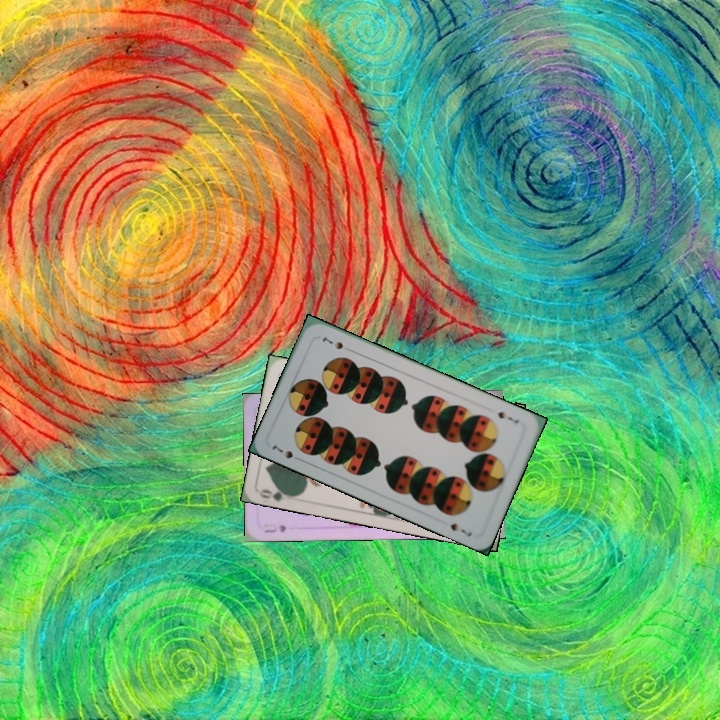GO: (257, 483, 298, 504)
S7: (268, 441, 305, 464), (494, 407, 522, 426)
SU: (260, 520, 289, 536)
